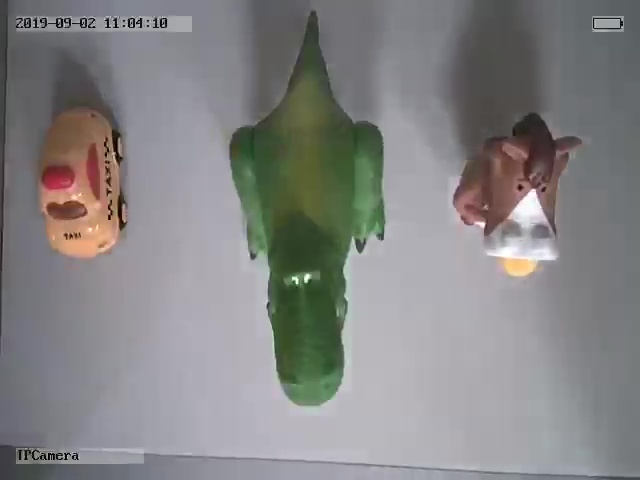car: (36, 107, 129, 257)
horse: (453, 112, 582, 277)
rex: (229, 11, 385, 408)
